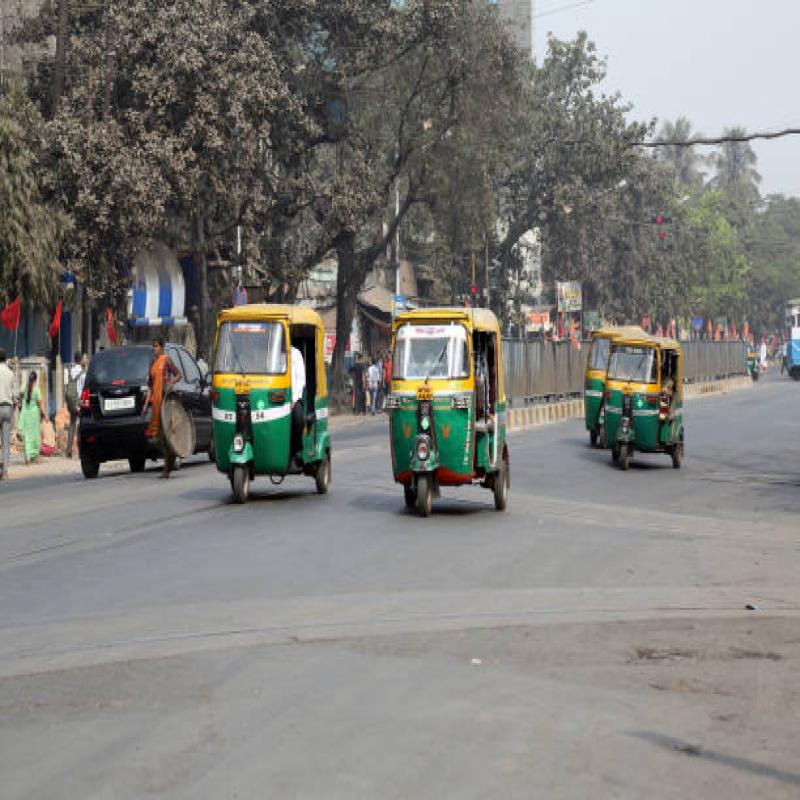auto: (200, 303, 332, 472), (390, 316, 501, 495), (606, 334, 676, 444)
